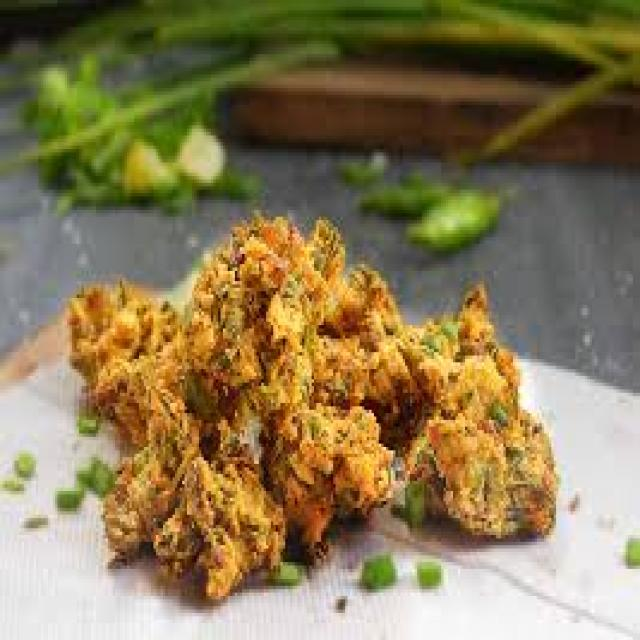BAJI: (412, 308, 544, 547), (77, 273, 257, 441), (305, 290, 448, 428), (224, 225, 326, 404), (144, 465, 276, 594), (108, 434, 237, 548), (280, 416, 382, 530)
